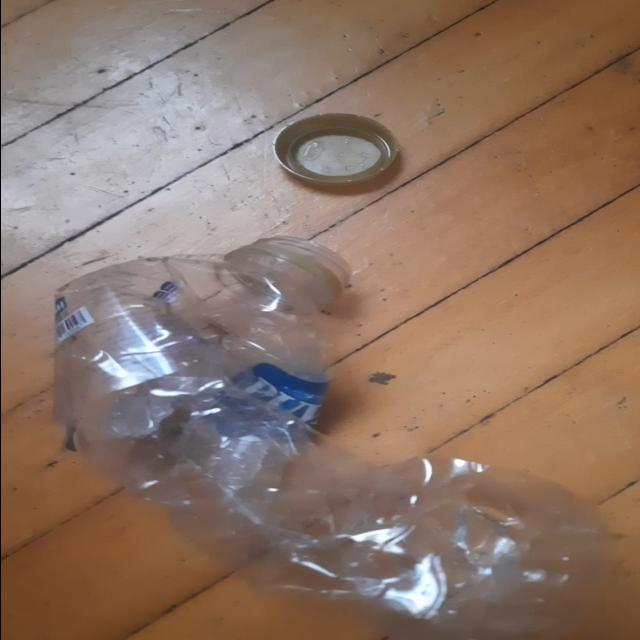Plastic: (52, 252, 620, 637)
